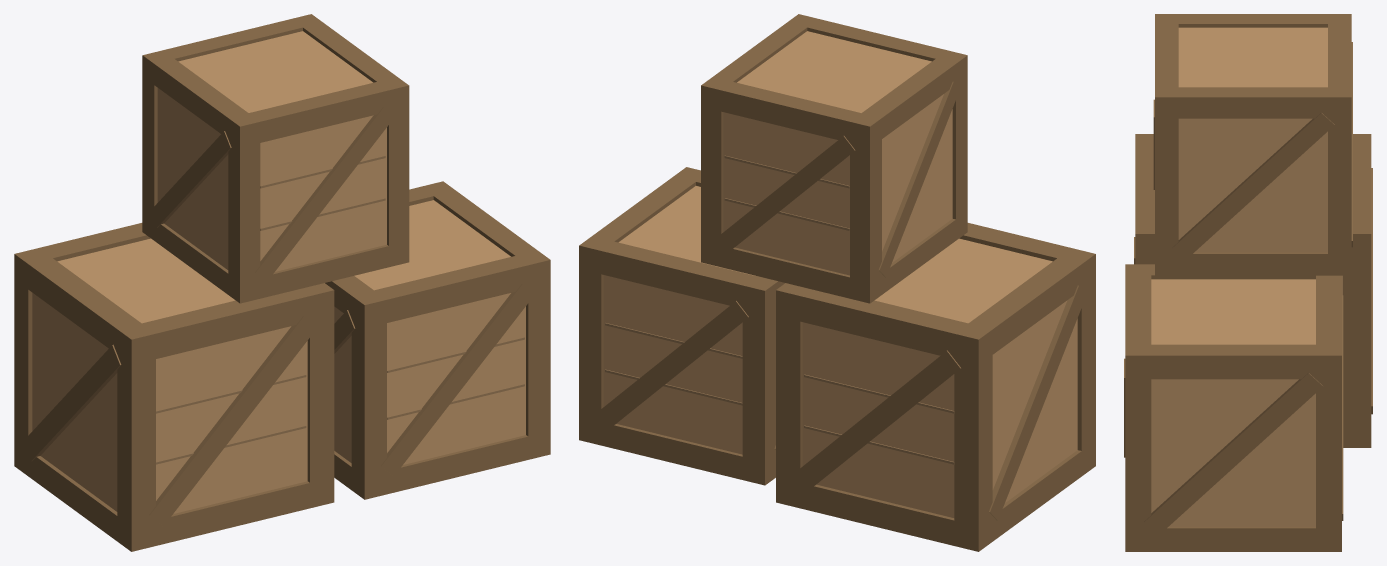
Rendered from crates.glb.
3 views of the same model, side by side, from view 1: azimuth 30°, elevation 25°; view 2: azimuth 150°, elevation 25°; view 3: azimuth 270°, elevation 25° (orthographic).
Visible parts, largest first — view 1: crates-m; view 2: crates-m; view 3: crates-m.
Part boxes in pixels (bbox=[...]): crates-m: bbox=[14, 14, 550, 551]; crates-m: bbox=[579, 14, 1095, 551]; crates-m: bbox=[1124, 14, 1372, 551].
Size of the model in its own units: 2.46 by 2.2 by 1.26.
